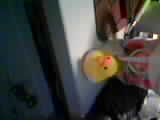duck: (79, 43, 114, 83)
